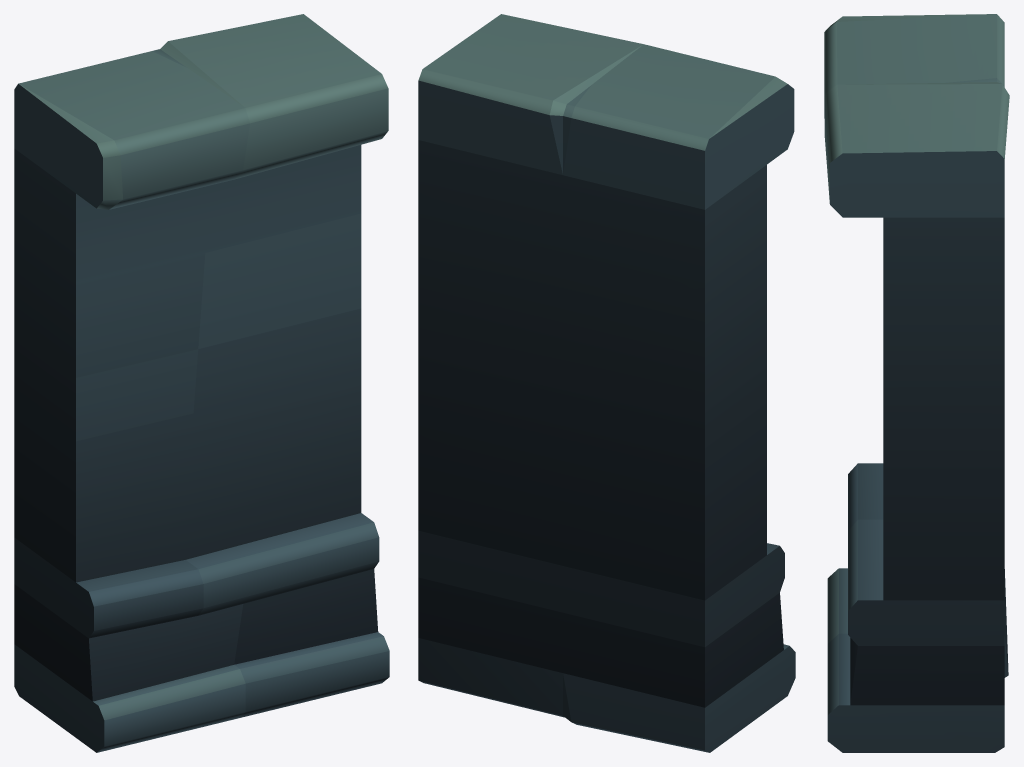
The model's file is wall_element_tileable_2meters.fbx.
The picture shows the model from 3 angles, left to right: view 1: azimuth 30°, elevation 25°; view 2: azimuth 150°, elevation 25°; view 3: azimuth 270°, elevation 25°; orthographic projection. The views are drawn at different scales.
Parts seen in each view (by area): view 1: wall_element_tileable_2meters; view 2: wall_element_tileable_2meters; view 3: wall_element_tileable_2meters.
Boxes of the visible parts, x1=… form: wall_element_tileable_2meters: x1=14, y1=14, x2=389, y2=752; wall_element_tileable_2meters: x1=418, y1=14, x2=795, y2=752; wall_element_tileable_2meters: x1=824, y1=14, x2=1009, y2=752.
Bounding box in the file's own units: 200 × 414 × 114.
